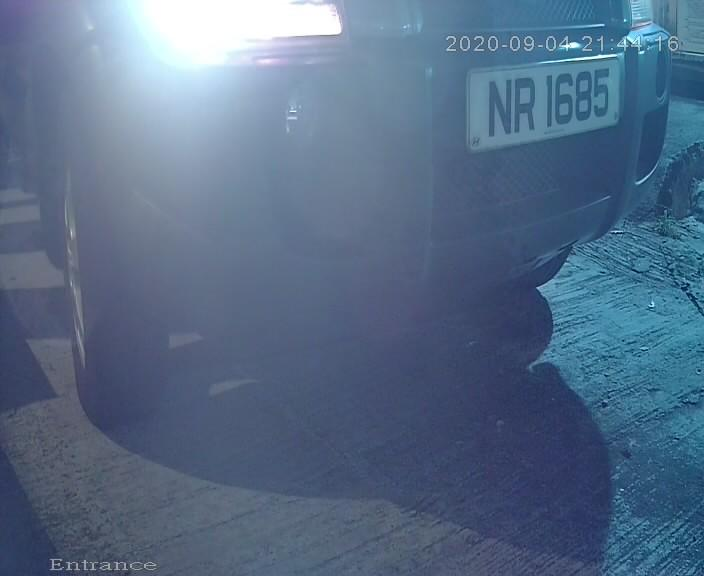License Plate: (443, 46, 646, 171)
